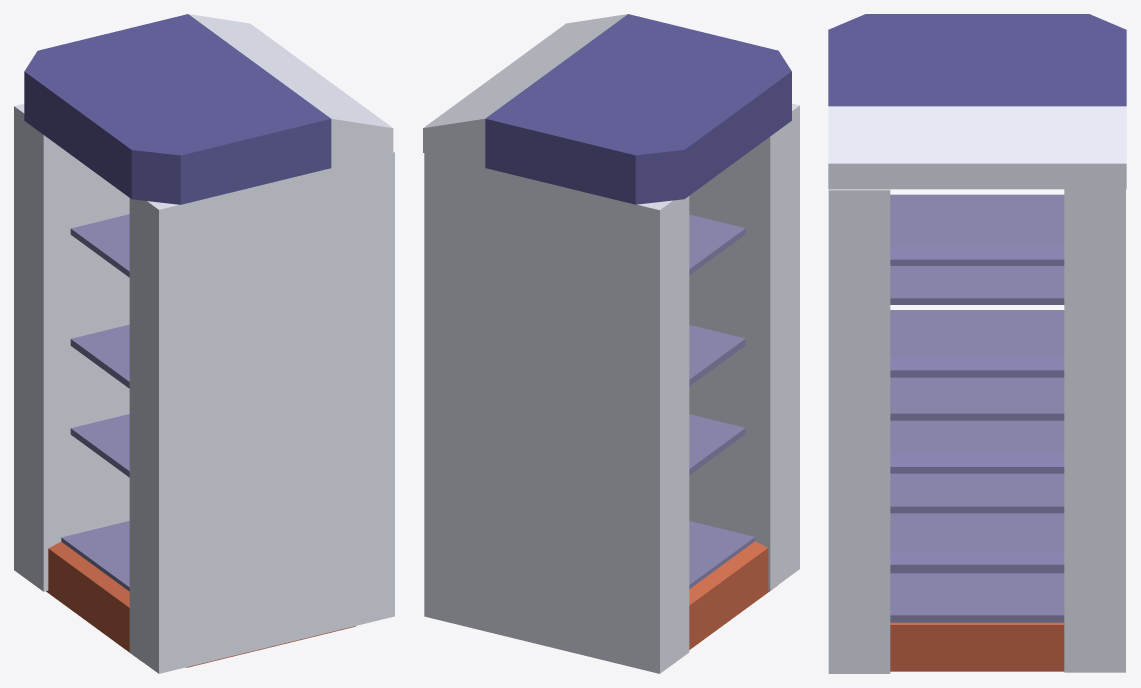
The model's file is fridge.fbx.
3 renders of one model, left to right at view 1: azimuth 30°, elevation 25°; view 2: azimuth 150°, elevation 25°; view 3: azimuth 270°, elevation 25°, orthographic. The views are drawn at different scales.
Visible parts, largest first — view 1: mergedBlocks; view 2: mergedBlocks; view 3: mergedBlocks.
Part boxes in pixels (<box>): mergedBlocks: <box>14,14,394,673</box>; mergedBlocks: <box>423,14,799,673</box>; mergedBlocks: <box>828,14,1126,673</box>.
Size of the model in its own units: 10.41 by 21.2 by 10.51.
